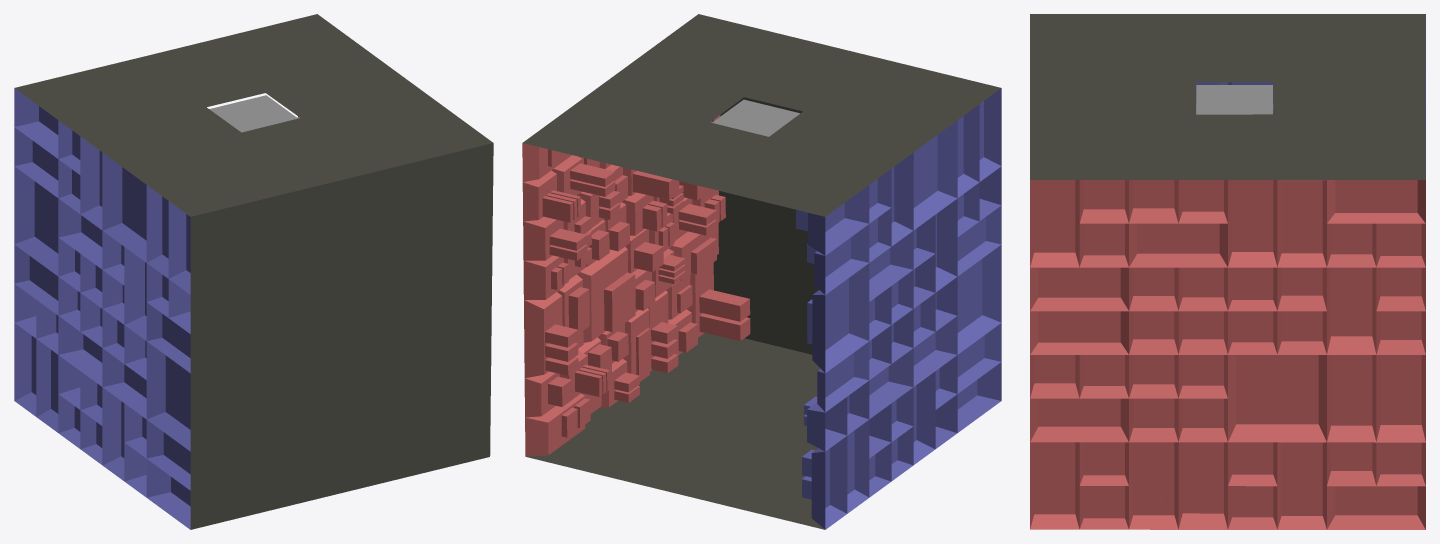
Rendered from Greeble_big.obj.
3 renders of one model, left to right at view 1: azimuth 30°, elevation 25°; view 2: azimuth 150°, elevation 25°; view 3: azimuth 270°, elevation 25°, orthographic. The views are drawn at different scales.
Visible parts, largest first — view 1: objobjCamera, rightWall, Plane01; view 2: objobjCamera, rightWall, leftWall, Plane01; view 3: leftWall, objobjCamera, Plane01.
Boxes of the visible parts, left/top/right/bottom form: objobjCamera: left=15, top=14, right=493, bottom=529; rightWall: left=14, top=88, right=190, bottom=529; Plane01: left=209, top=95, right=297, bottom=132; objobjCamera: left=523, top=14, right=1000, bottom=529; rightWall: left=796, top=88, right=1001, bottom=529; leftWall: left=522, top=115, right=750, bottom=456; Plane01: left=712, top=99, right=800, bottom=136; leftWall: left=1030, top=180, right=1425, bottom=529; objobjCamera: left=1030, top=14, right=1425, bottom=179; Plane01: left=1196, top=85, right=1272, bottom=114.
Size of the model in its own units: 178 by 176 by 179.
